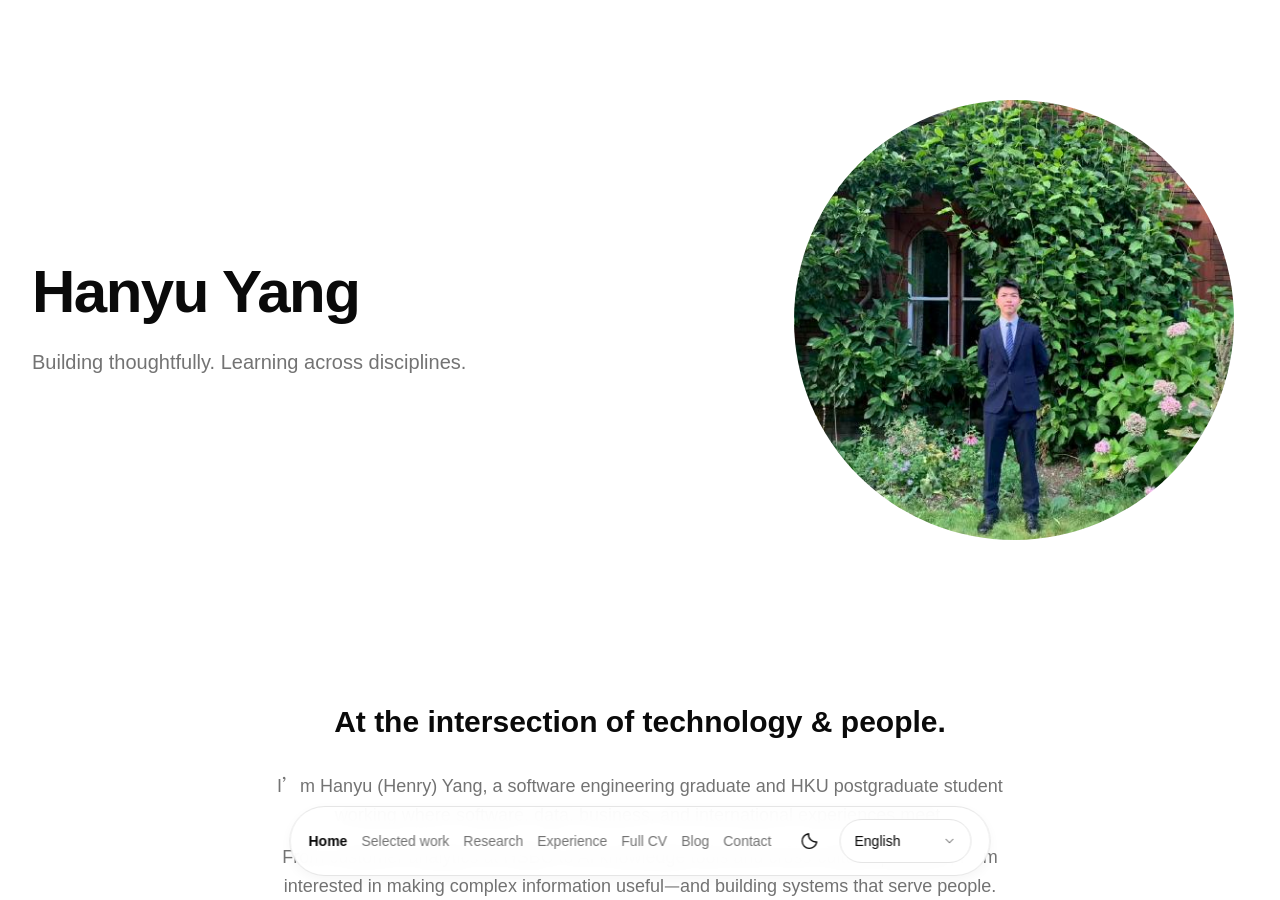
Test: multilingual navigation › supports keyboard selection and restores focus after Escape
The image size is (1280, 900).
Step 1. Click the dropdown → click(906, 841), box [840,819,972,863]
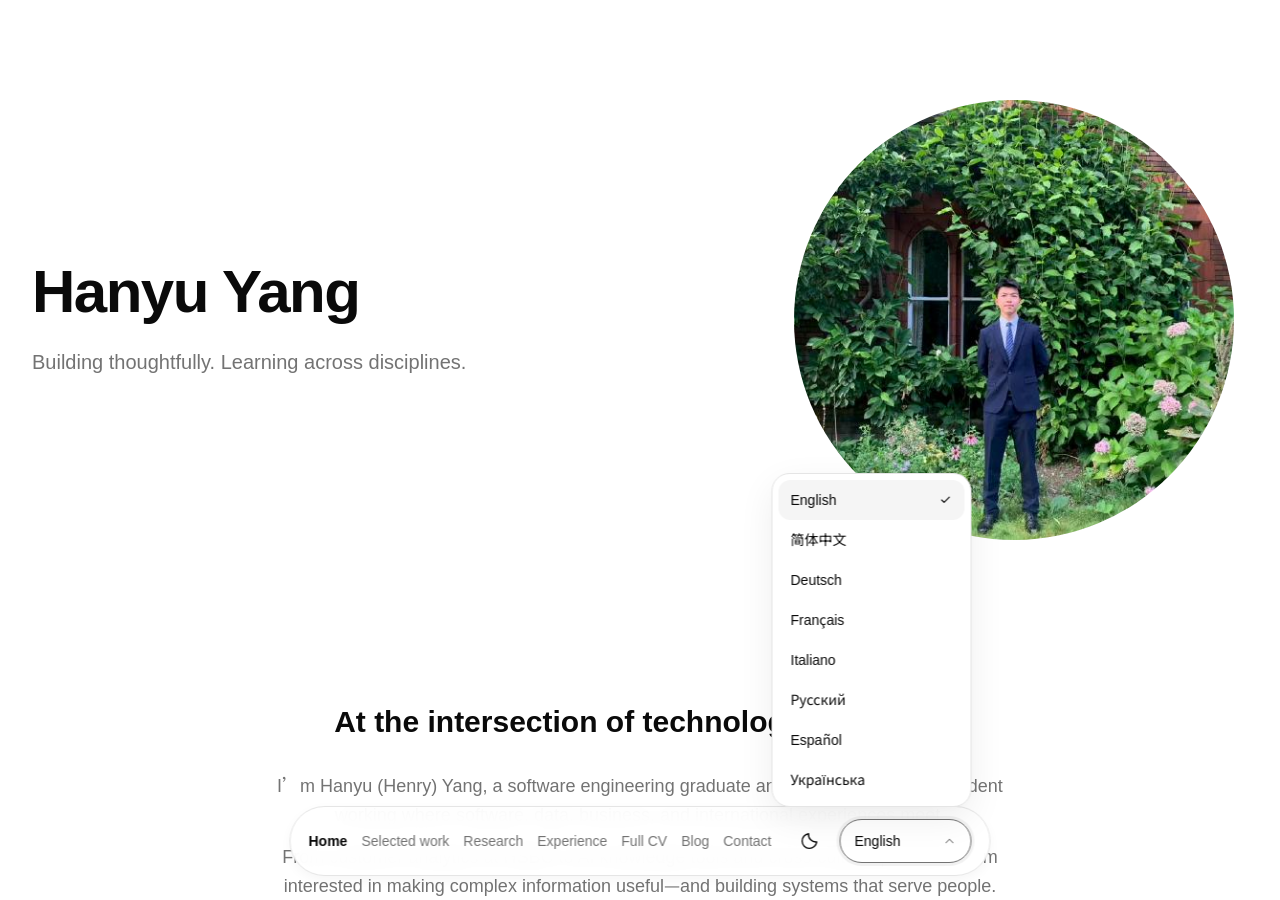
Now the dropdown is expanded
Step 2. Press End in the dropdown, box [840,819,972,863]
Step 3. Press Enter in the dropdown, box [840,819,972,863]
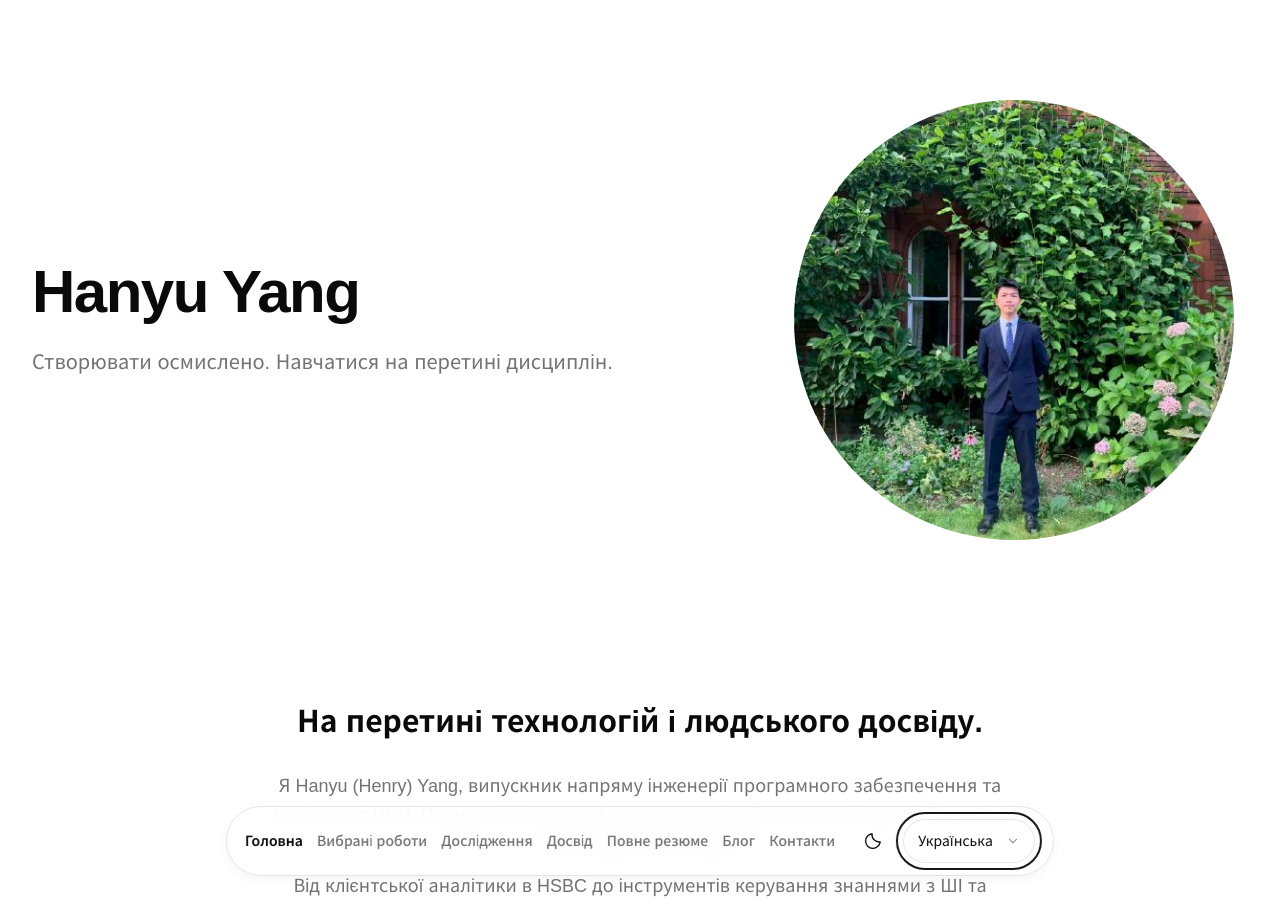
Now the dropdown is collapsed
Step 4. Click the dropdown → click(969, 841), box [903,819,1035,863]
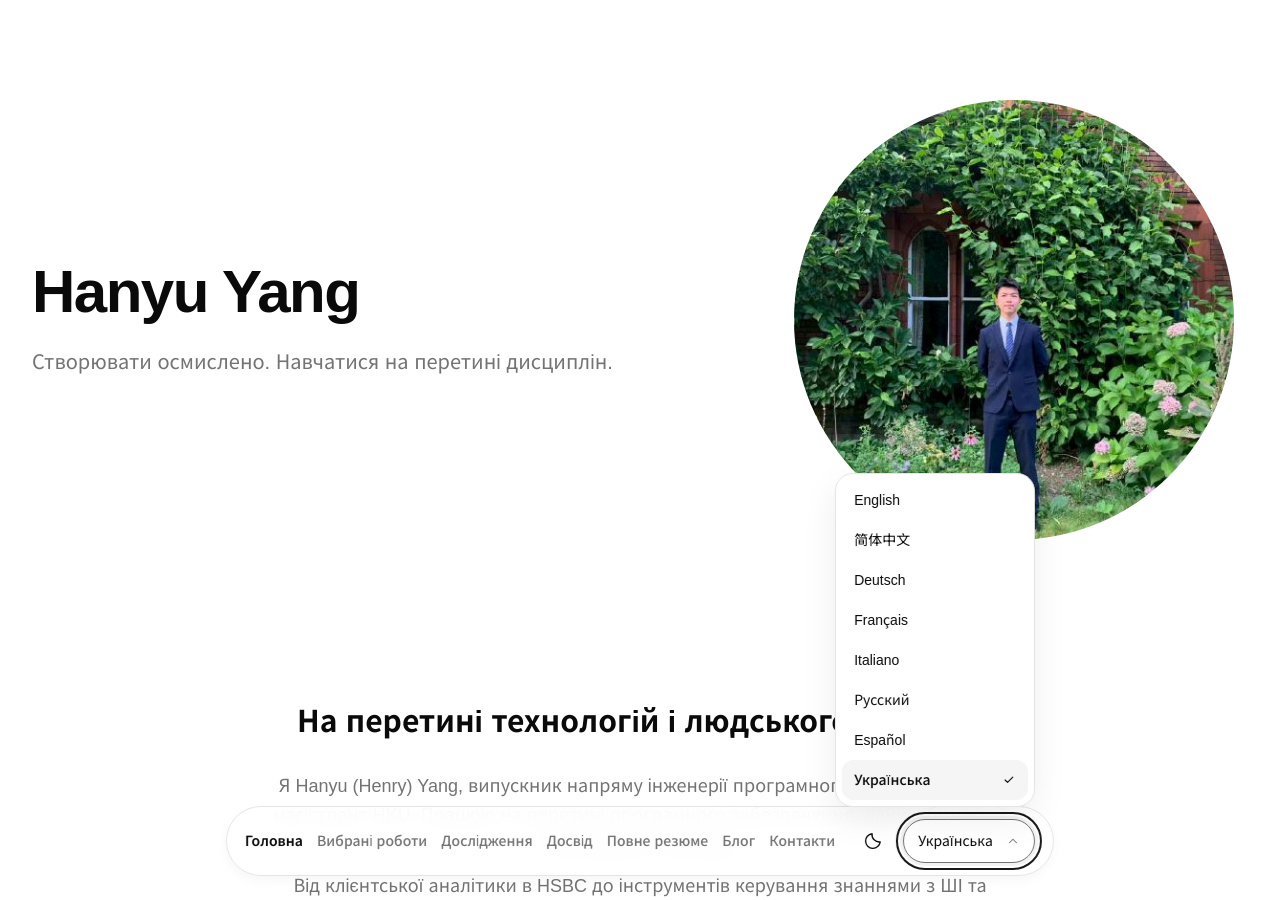
Step 5. Press Escape in the dropdown, box [903,819,1035,863]
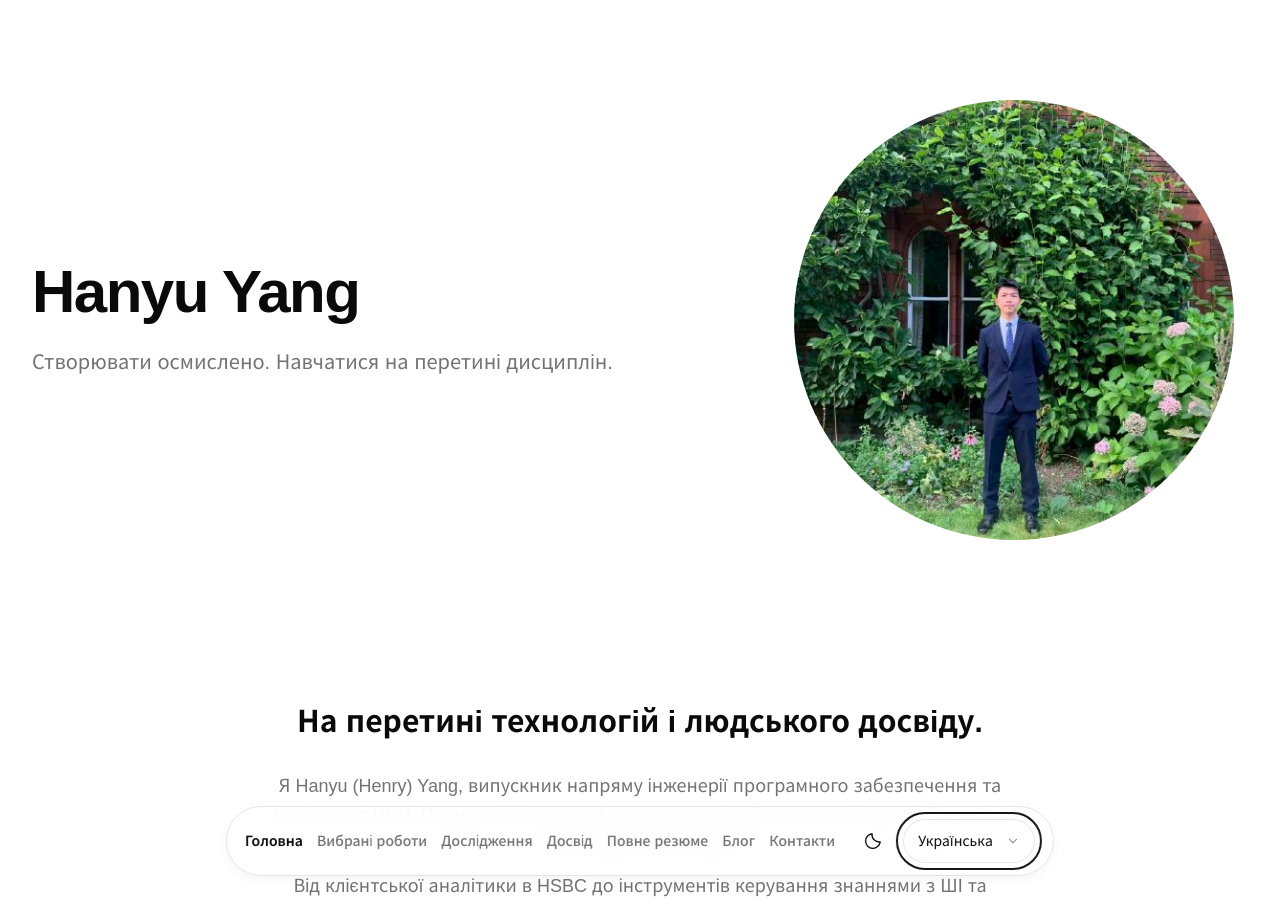
Now the dropdown is collapsed, box [903,819,1035,863]
